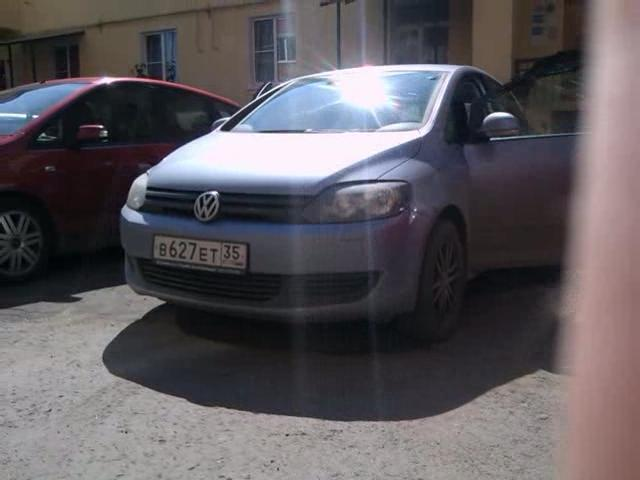license-plateSW: (151, 237, 247, 272)
